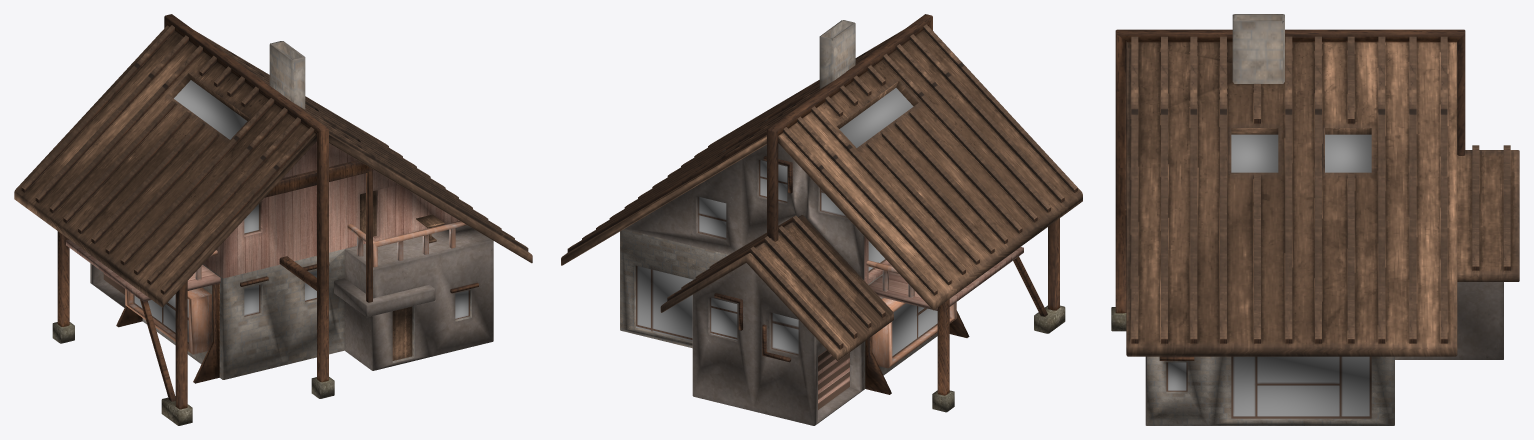
The model's file is halet.glb.
3 views of the same model, side by side, from view 1: azimuth 30°, elevation 25°; view 2: azimuth 150°, elevation 25°; view 3: azimuth 270°, elevation 25° (orthographic). The views are drawn at different scales.
Visible parts, largest first — view 1: Chalet; view 2: Chalet; view 3: Chalet.
Boxes of the visible parts, box(x1,y1,x2,y2) form: Chalet: box(14, 14, 532, 425); Chalet: box(561, 14, 1082, 425); Chalet: box(1111, 14, 1519, 425).
Size of the model in its own units: 15.25 by 11.47 by 13.11.
Materials: 1 (1 with a texture image).
